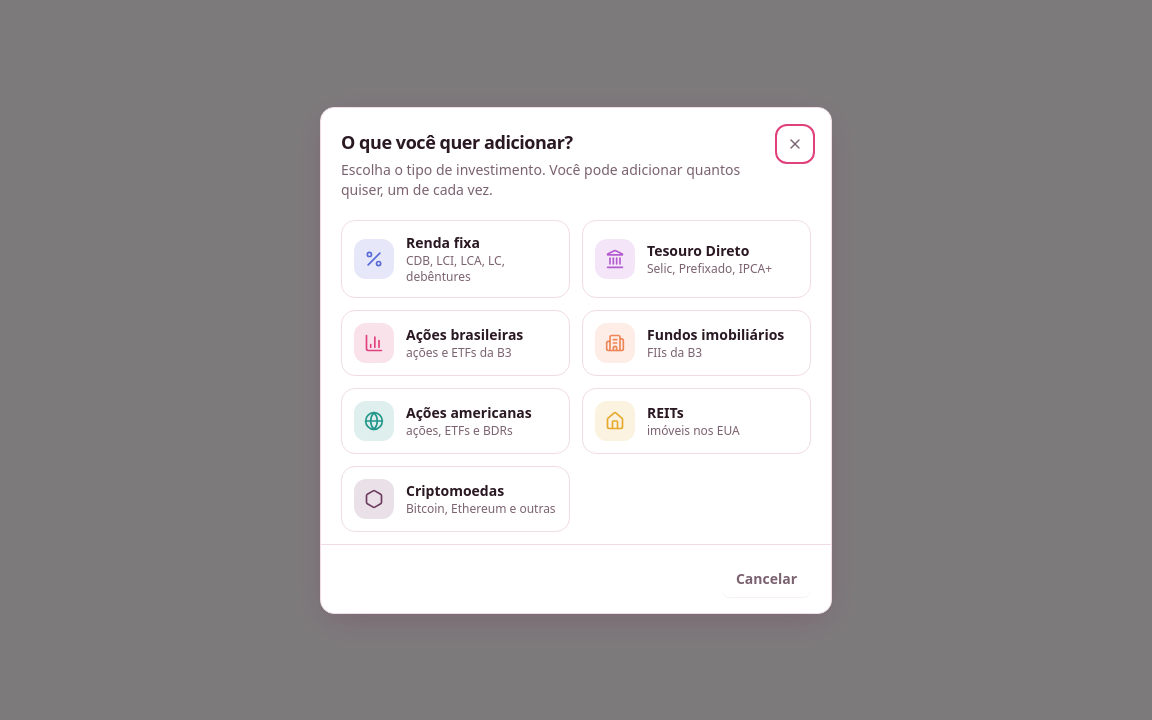
Test: AddAssetModal: renda fixa › mudar o indexador troca o rótulo, a taxa sugerida e a classe
The image size is (1152, 720).
Click the button "Renda fixa CDB, LCI, LCA, LC, debêntures": (456, 258) x1=341 y1=220 x2=570 y2=298
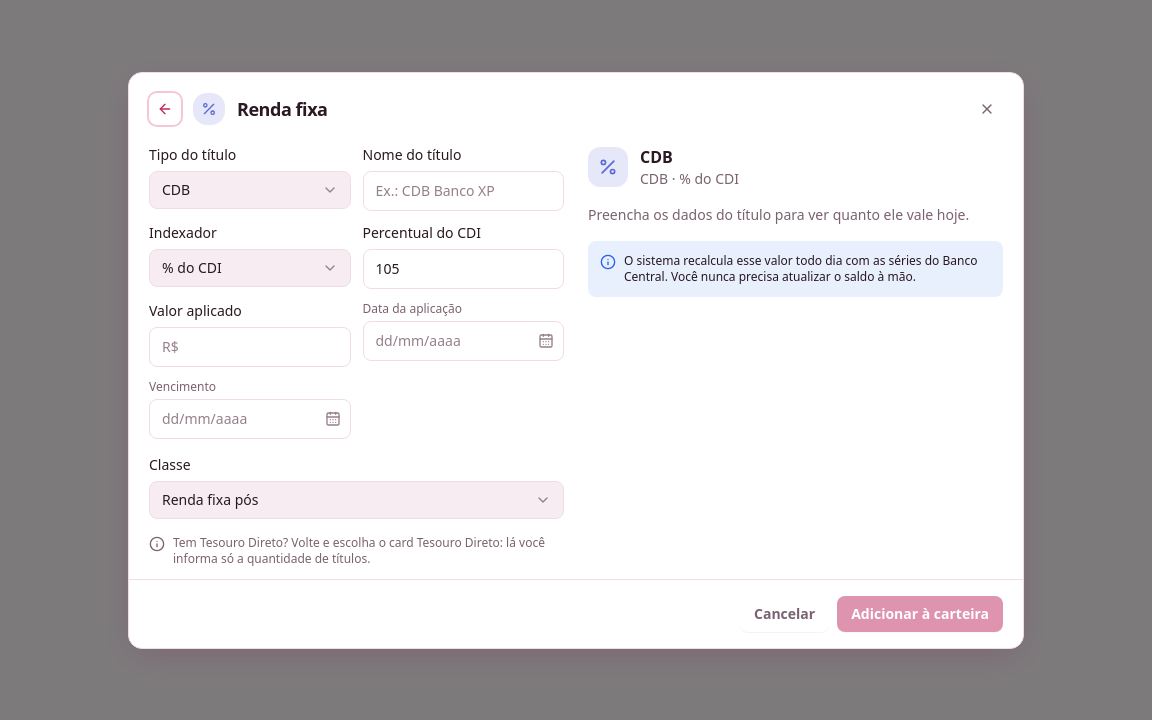
Expected: the field labelled "Percentual do CDI" is shown, x1=362 y1=248 x2=564 y2=288
Click the dropdown named "Indexador": (250, 268) x1=149 y1=248 x2=350 y2=286
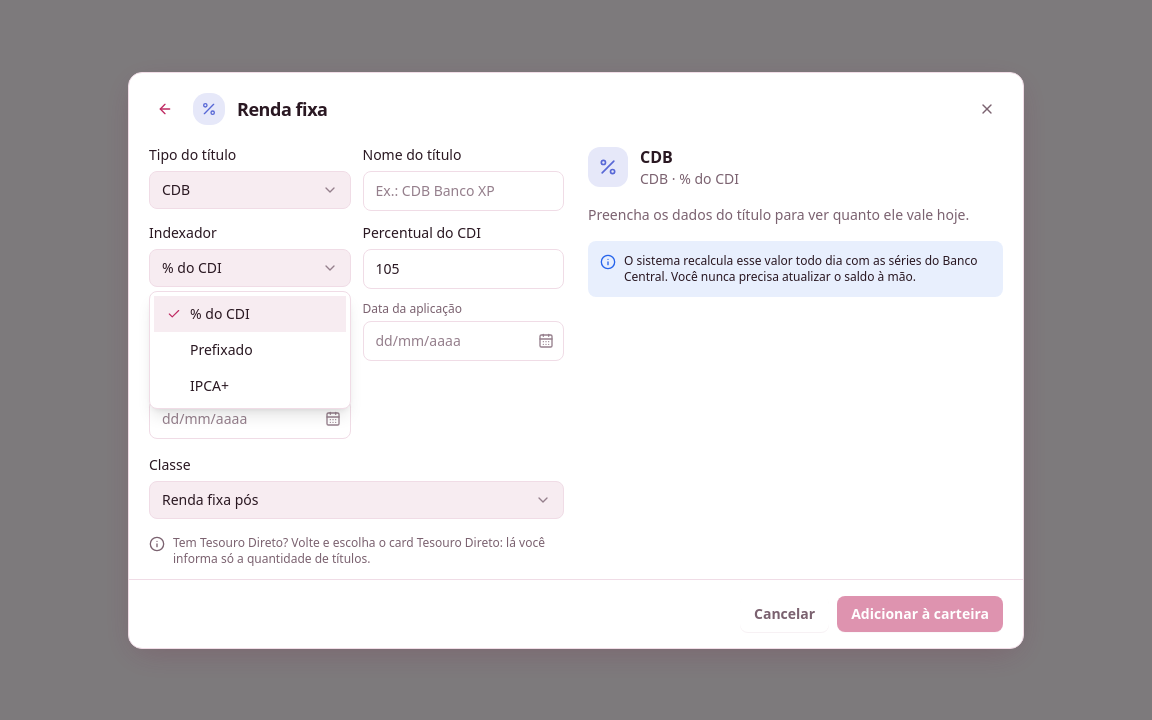
Click the option "Prefixado": (221, 350) x1=190 y1=340 x2=253 y2=359
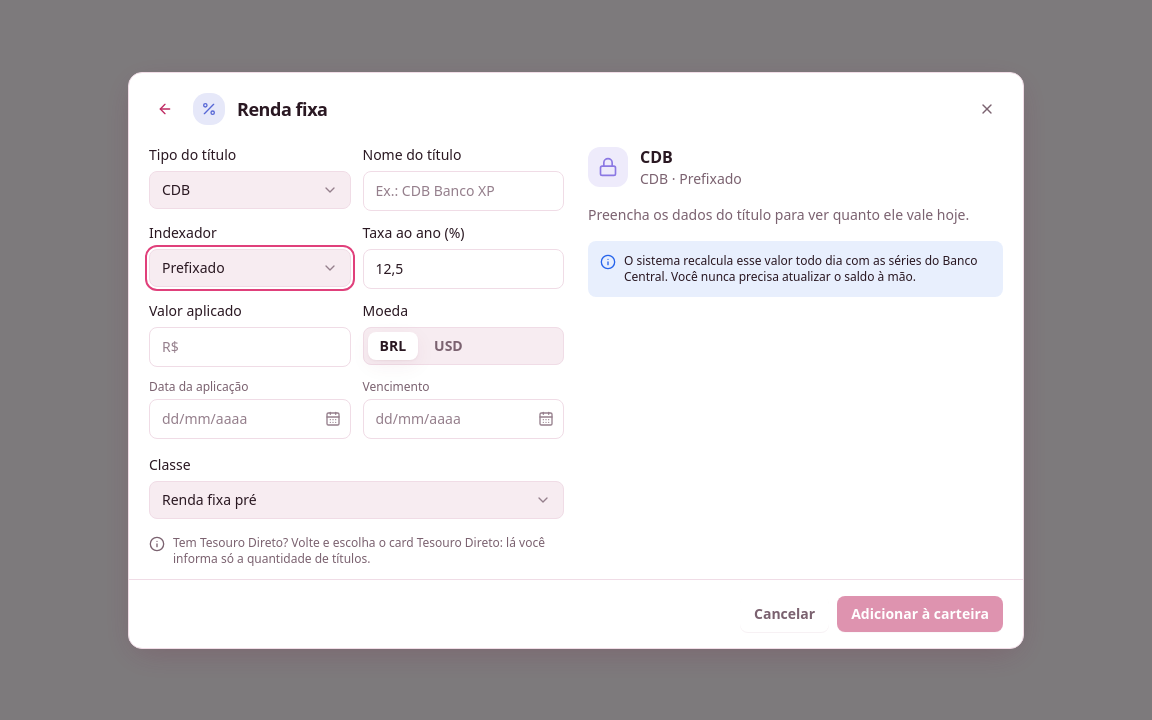
Expected: the field labelled "Taxa ao ano (%)" holds "12,5", x1=362 y1=248 x2=564 y2=288
Expected: the dropdown named "Classe" reads "Renda fixa pré", x1=149 y1=480 x2=564 y2=518
Click the dropdown named "Indexador": (250, 268) x1=149 y1=248 x2=350 y2=286
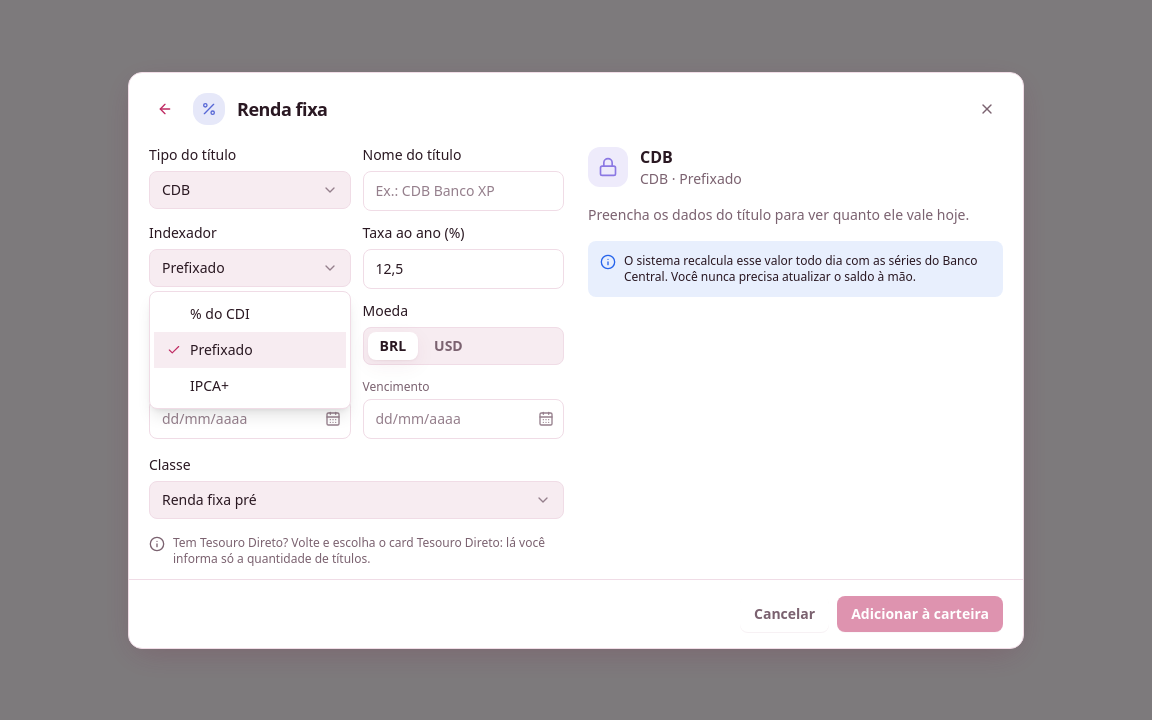
Click the option "IPCA+": (210, 386) x1=190 y1=376 x2=229 y2=395
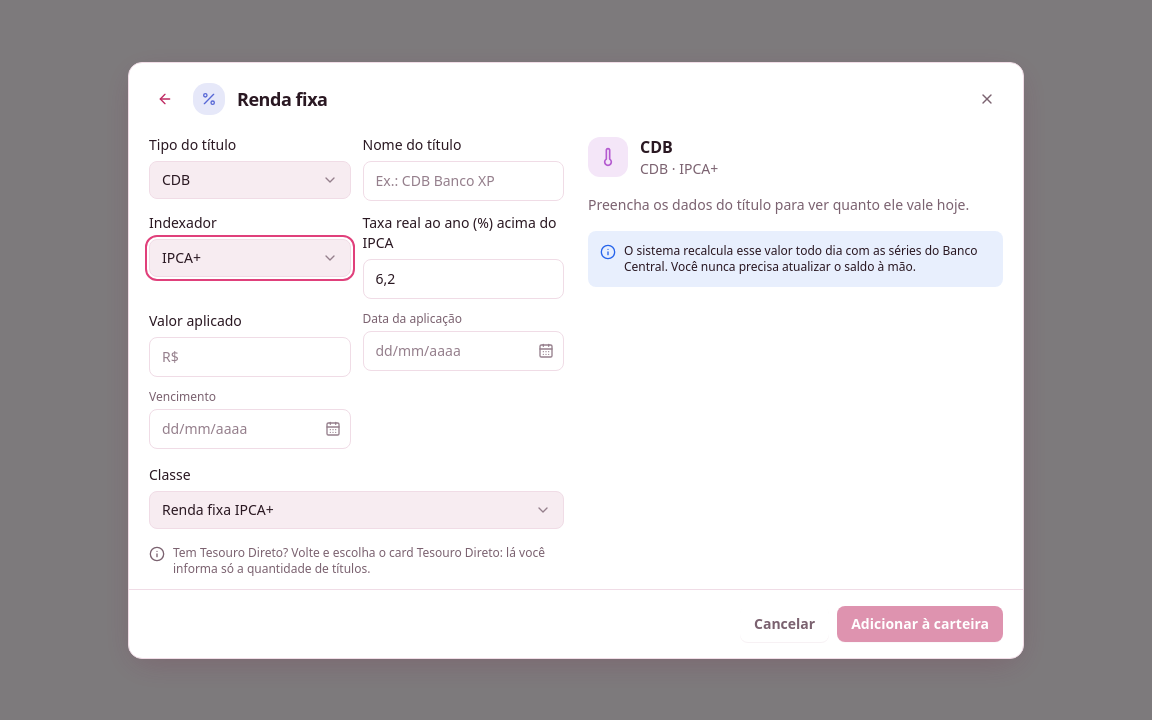
Expected: the field labelled "Taxa real ao ano (%) acima do IPCA" holds "6,2", x1=362 y1=258 x2=564 y2=298
Expected: the dropdown named "Classe" reads "Renda fixa IPCA+", x1=149 y1=490 x2=564 y2=528
Expected: the radio button labelled "USD" is gone
